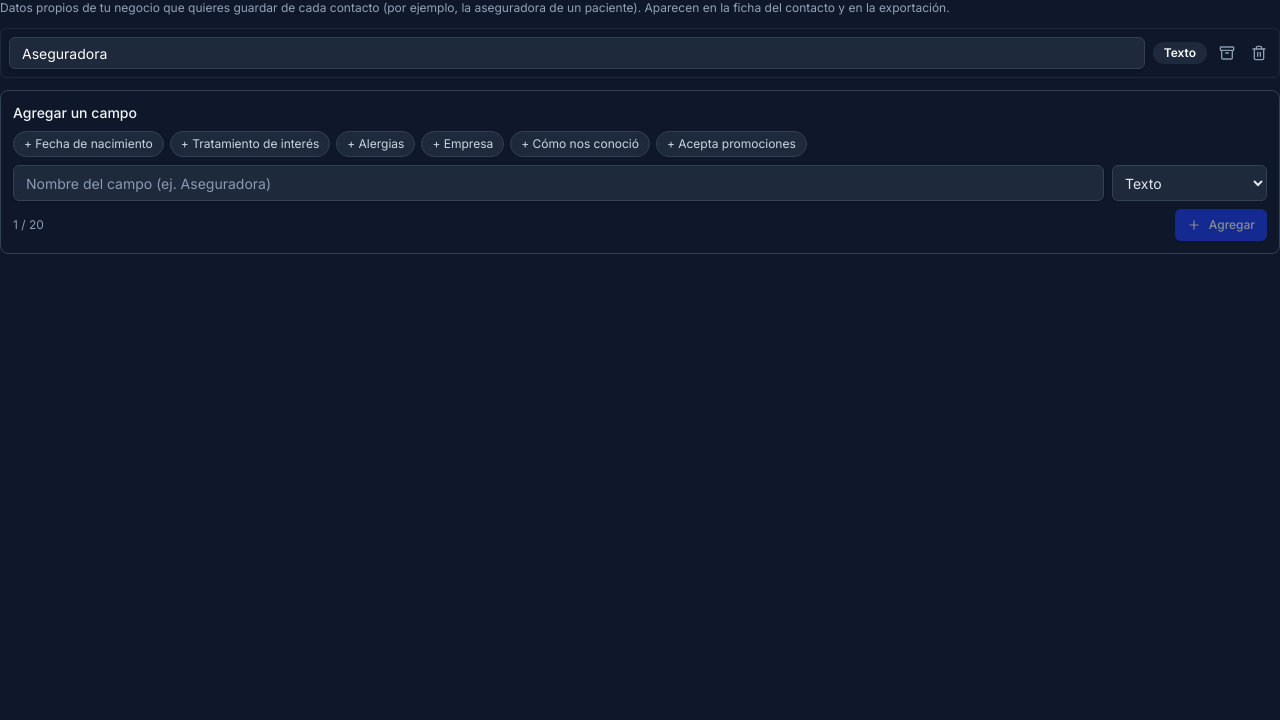
it: CustomFieldsPanel · eliminar campo › cancelar no elimina nada
Click the button named "Eliminar campo Aseguradora": click(1259, 53) [1247, 41, 1271, 65]
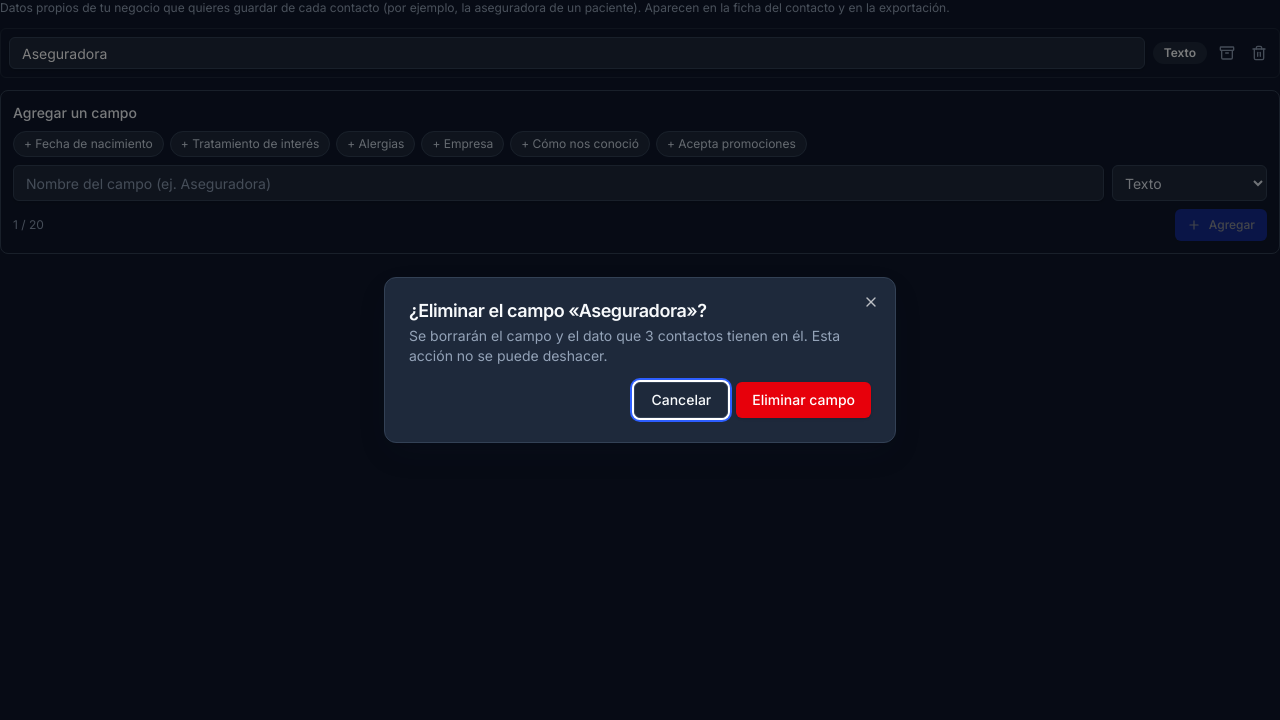
Expected: the text "3 contactos tienen" is shown, [409, 327, 840, 364]
Click the button "Cancelar": click(681, 400) [634, 382, 728, 418]
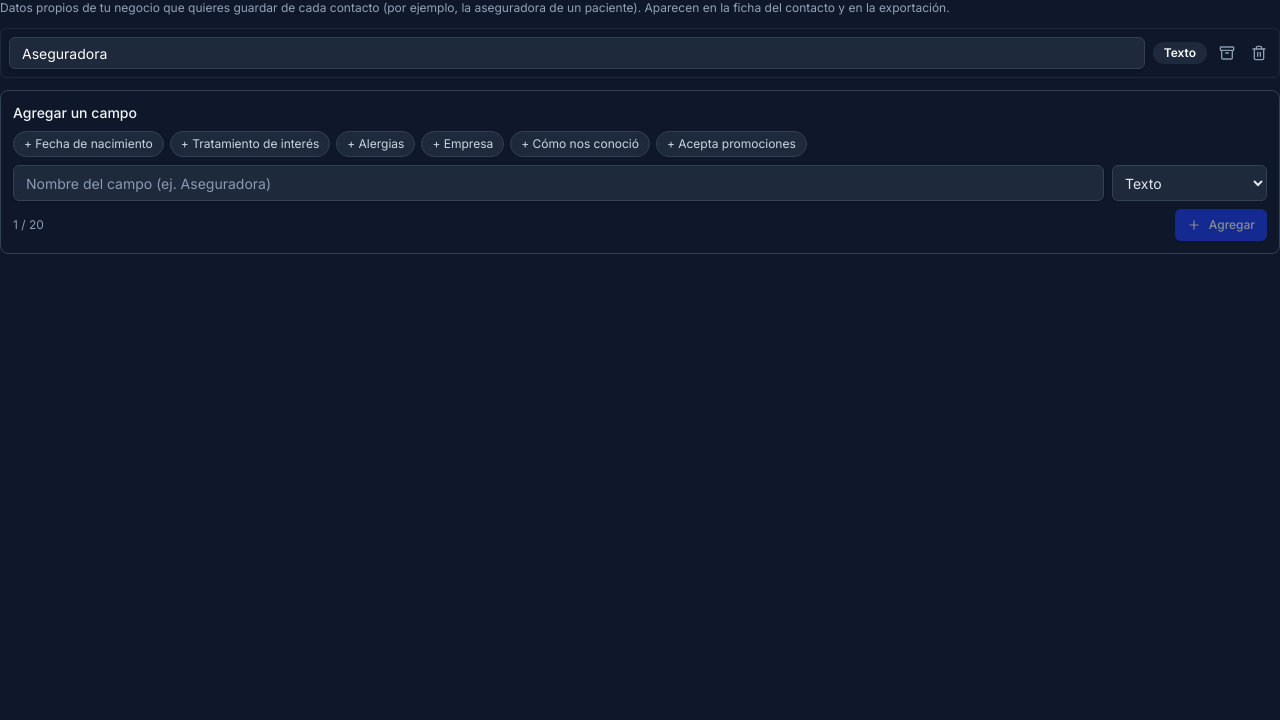
Expected: the heading "¿Eliminar el campo" is gone
